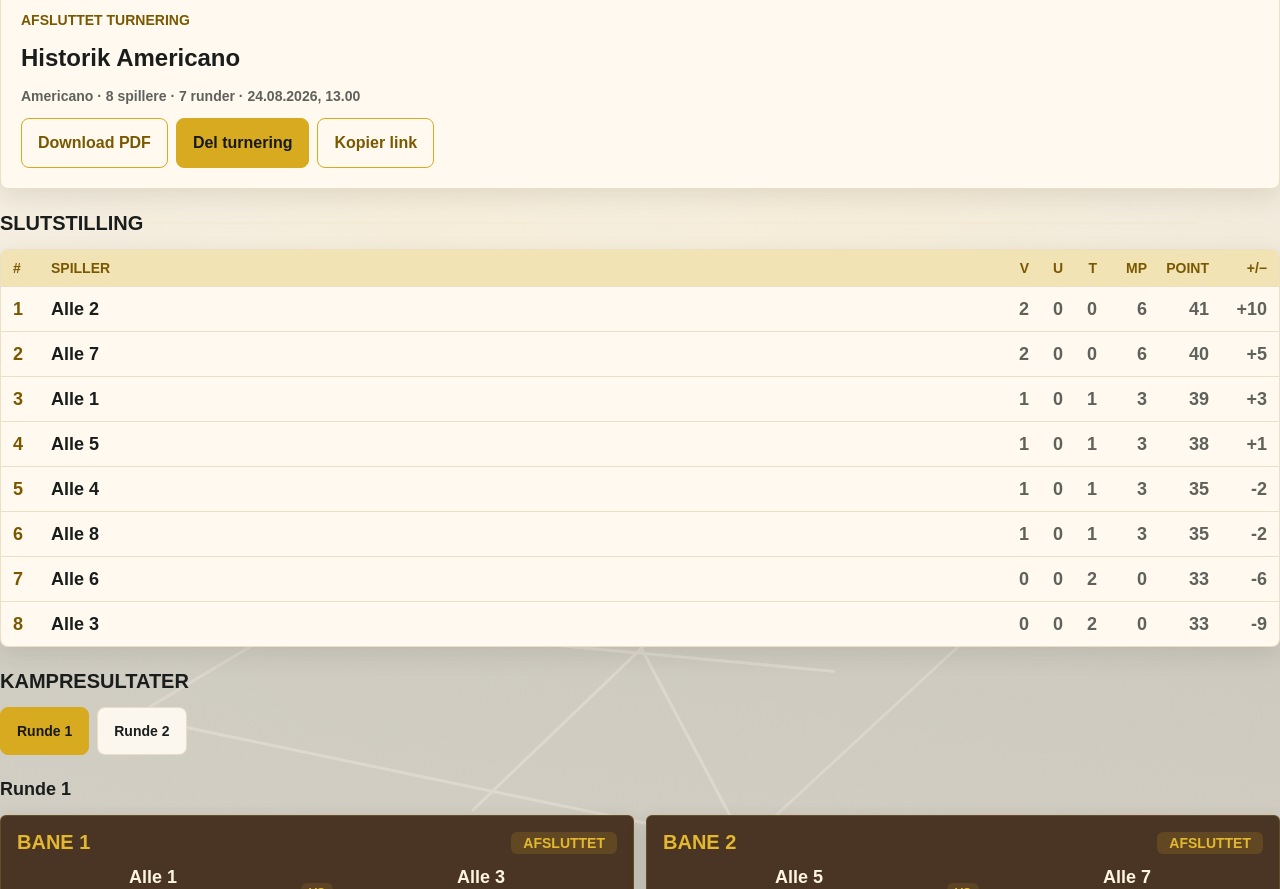
Test: FinishTournamentApp pool play › opens a completed tournament as a read-only final standings and round history page
Check: the heading "Historik Americano" is shown, box 21,44 -> 240,71
Check: the heading "Slutstilling" is shown, box 0,212 -> 143,234
Step 1. Click the button "Runde 2" → [142, 731], box 97,707 -> 187,755
(page scrolled)
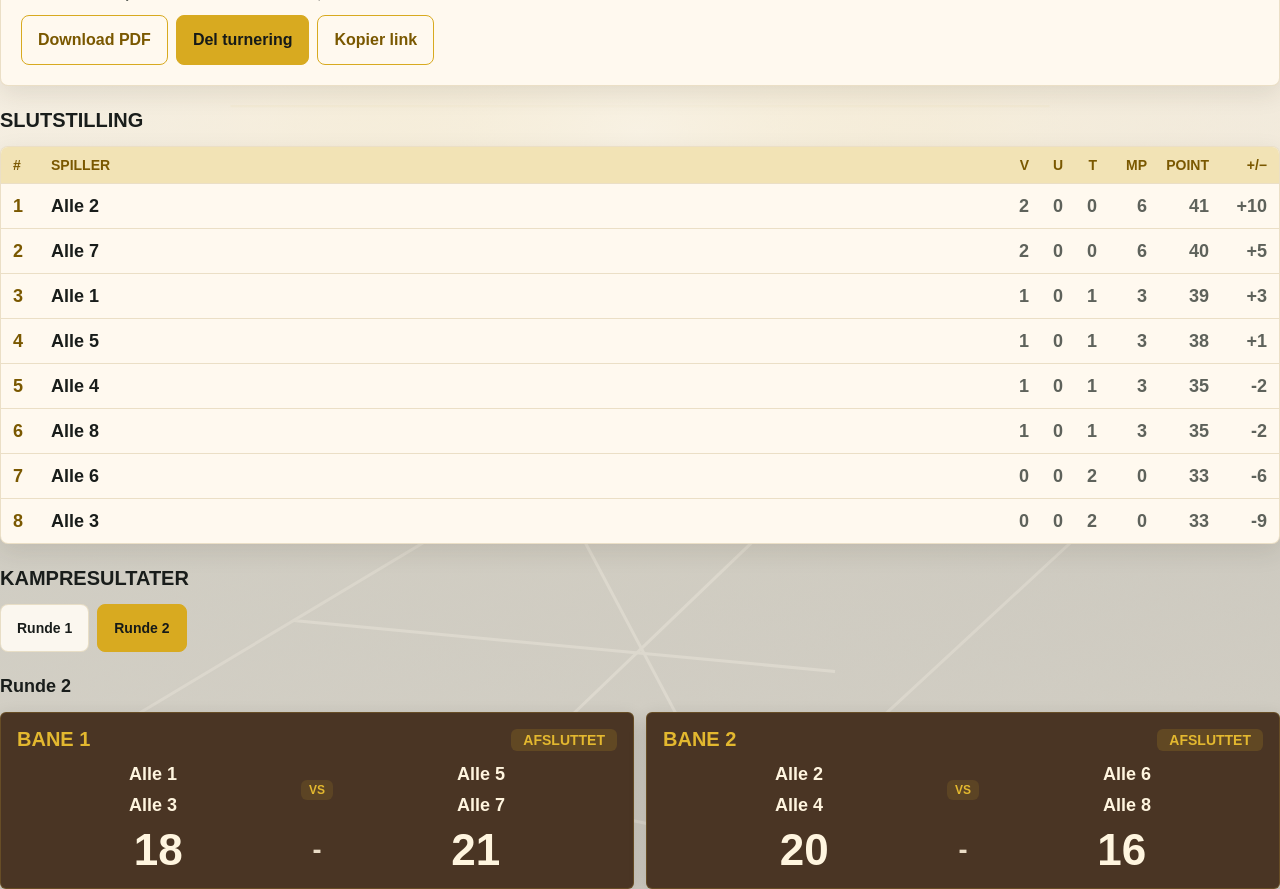
Check: the text with test id "finished-history-court-left-score" reads "18", box 134,825 -> 183,874
Check: the text with test id "finished-history-court-right-score" reads "21", box 451,825 -> 500,874
